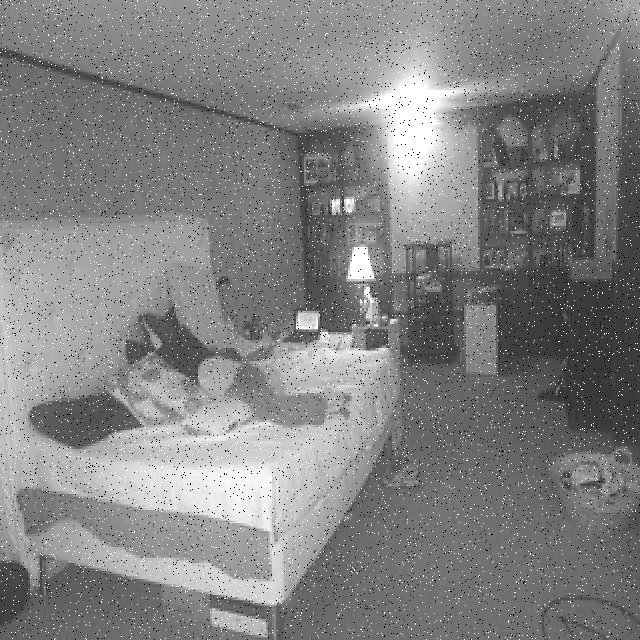bed: (8, 256, 390, 608)
